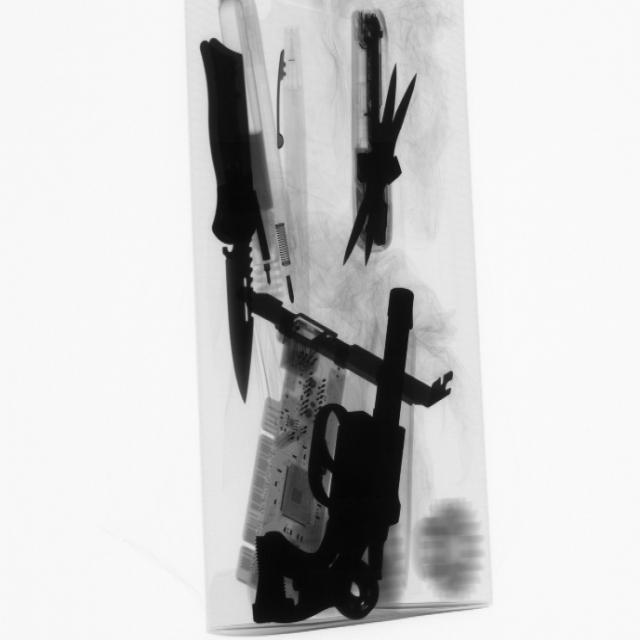GUN: (268, 282, 418, 631)
KNIFE: (195, 33, 278, 401)
SHURIKEN: (341, 55, 420, 277)
